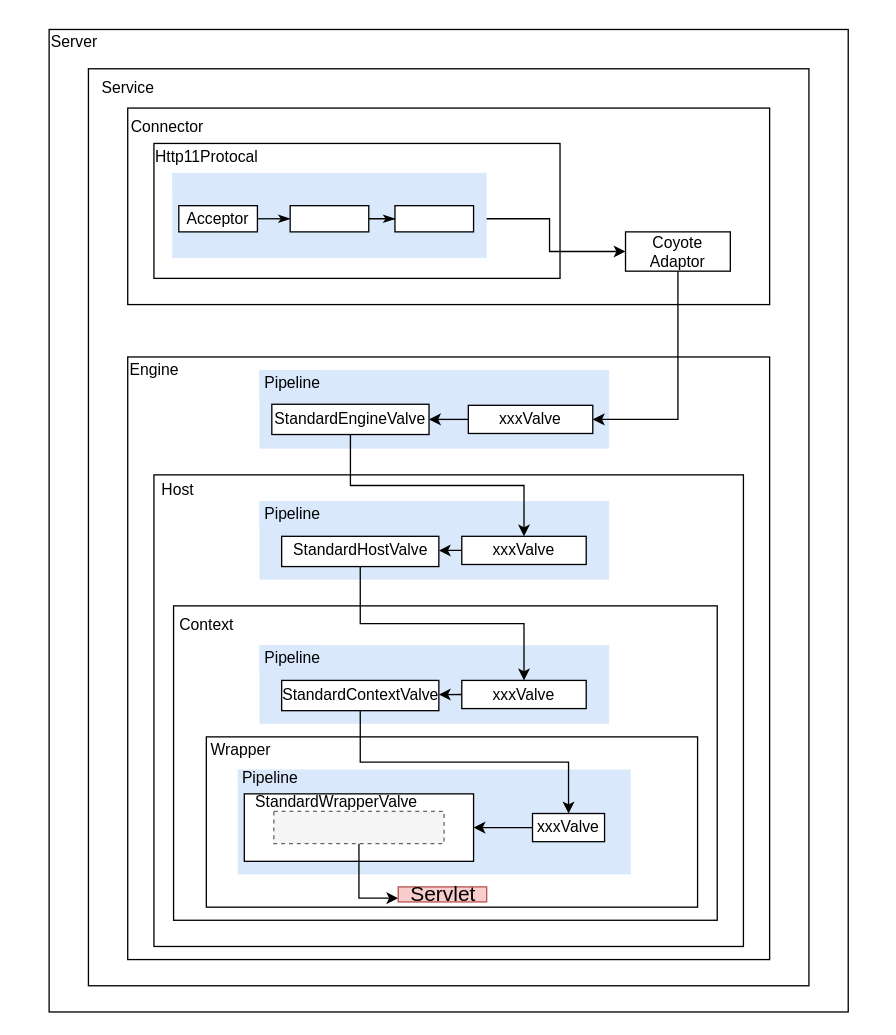
Some shapes in this 896 by 1035 pixel diagram are drawn without their labels. Here are the shapes that lost their labels. From the top down, the centre of each, then its label:
At pixel 217 182: "NioEndpoint".
At pixel 329 218: "Poller".
At pixel 434 218: "Executor".
At pixel 358 827: "ApplicationFilterChain".
